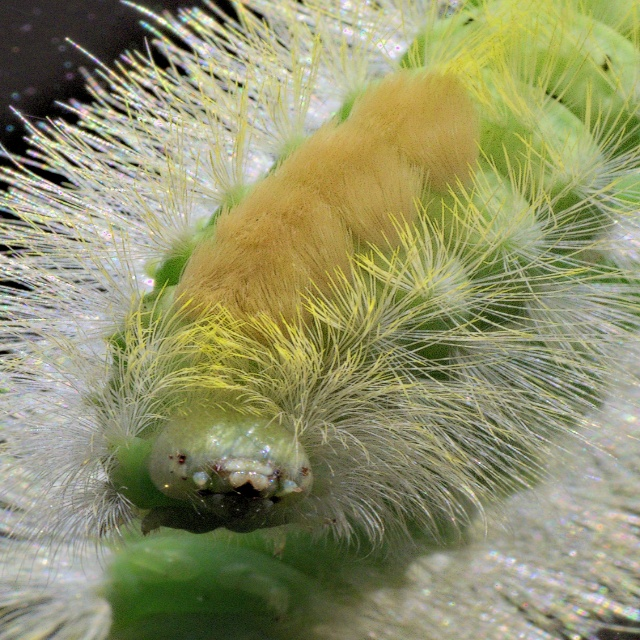Caterpillar: (0, 0, 639, 559)
